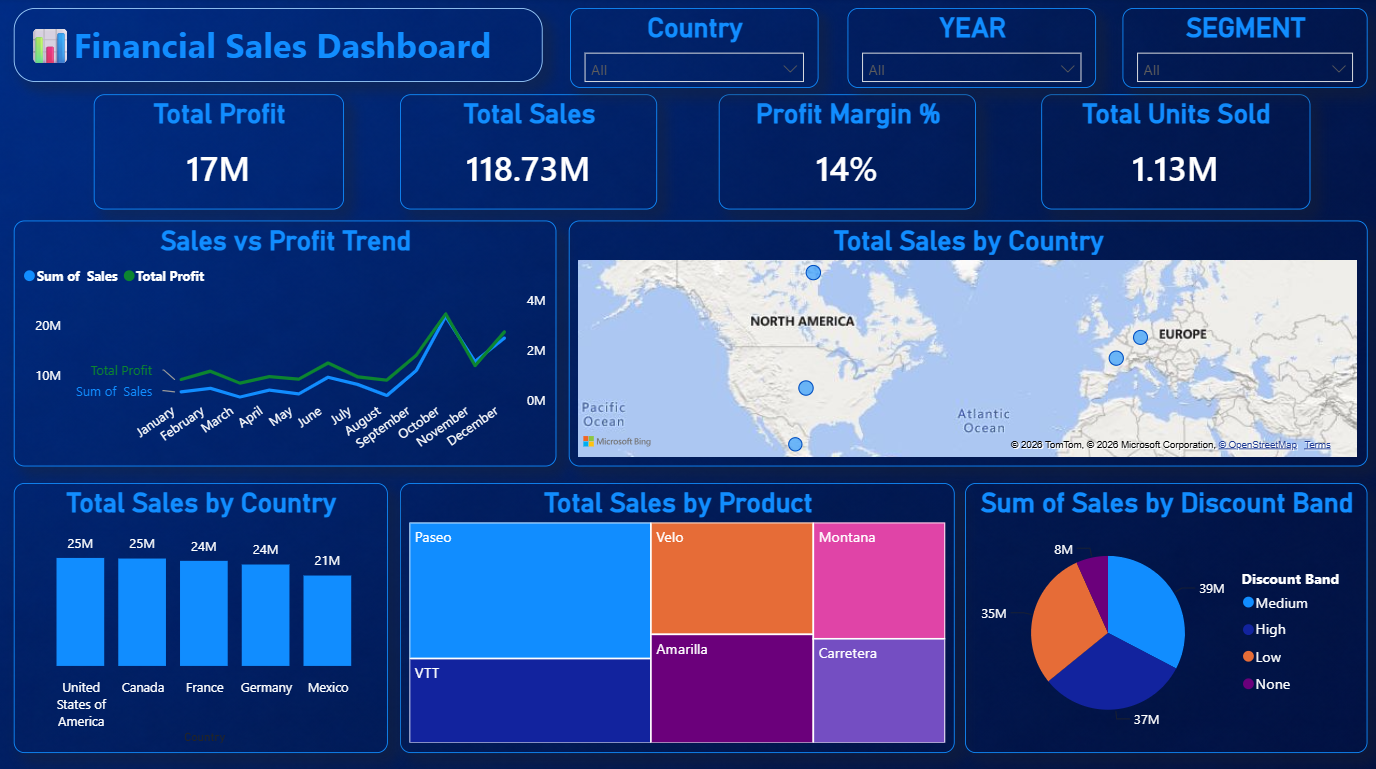

The dashboard page shown, as its layout file describes it:
{"tool":"powerbi","page":{"name":"Page 1","canvas":[1280,720],"ordinal":0},"visuals":[{"type":"textbox","box":[12.8,9.3,491.9,68.6],"z":0},{"type":"cardVisual","title":"Total Sales","fields":{"Data":["financials.Total Sales"]},"box":[372.1,89.5,239.5,107],"z":2000},{"type":"cardVisual","title":"Profit Margin %","fields":{"Data":["financials.Profit Margin %"]},"box":[668.6,89.5,239.5,107],"z":3000},{"type":"cardVisual","title":"Total Profit","fields":{"Data":["Sum(financials.Profit)"]},"box":[87.2,89.5,232.6,107],"z":4000},{"type":"cardVisual","title":"Total Units Sold","fields":{"Data":["financials.Total Units sold"]},"box":[968.6,89.5,250,107],"z":6000},{"type":"lineChart","title":"Sales vs Profit Trend","fields":{"Y":["Sum(financials. Sales)"],"Category":["Calendar.Date.Variation.Date Hierarchy.Month"],"Y2":["financials.Total Profit"]},"box":[12.8,207,504.7,229.1],"z":7000},{"type":"map","fields":{"Category":["financials.Country"],"Size":["financials.Total Sales"]},"box":[529.1,207,743,229.1],"z":8000},{"type":"treemap","fields":{"Values":["financials.Total Sales"],"Group":["financials.Product"]},"box":[372.1,451.2,516.3,251.2],"z":10000},{"type":"pieChart","fields":{"Y":["Sum(financials. Sales)"],"Category":["financials.Discount Band"]},"box":[897.7,451.2,374.4,251.2],"z":11000},{"type":"clusteredColumnChart","fields":{"Y":["financials.Total Sales"],"Category":["financials.Country"]},"box":[12.8,451.2,347.7,251.2],"z":12000},{"type":"slicer","title":"YEAR","fields":{"Values":["Calendar.Year"]},"box":[788.4,9.3,231.4,74.4],"z":13000},{"type":"slicer","title":"Country","fields":{"Values":["financials.Country"]},"box":[530.2,9.3,231.4,74.4],"z":14000},{"type":"slicer","title":"SEGMENT","fields":{"Values":["financials.Segment"]},"box":[1044.2,9.3,227.9,74.4],"z":15000}]}

Visuals, with their boxes in screenshot pixels (x1, y1, x2, y2), scaled from the page's 1280x720 canvas onto the 1376x769 screenshot:
textbox: 14, 10, 543, 83
"Total Sales" cardVisual: 400, 96, 657, 210
"Profit Margin %" cardVisual: 719, 96, 976, 210
"Total Profit" cardVisual: 94, 96, 344, 210
"Total Units Sold" cardVisual: 1041, 96, 1310, 210
"Sales vs Profit Trend" lineChart: 14, 221, 556, 466
map - financials.Country x financials.Total Sales: 569, 221, 1368, 466
treemap - financials.Total Sales x financials.Product: 400, 482, 955, 750
pieChart - Sum(financials. Sales) x financials.Discount Band: 965, 482, 1368, 750
clusteredColumnChart - financials.Total Sales x financials.Country: 14, 482, 388, 750
"YEAR" slicer: 848, 10, 1096, 89
"Country" slicer: 570, 10, 819, 89
"SEGMENT" slicer: 1123, 10, 1368, 89
